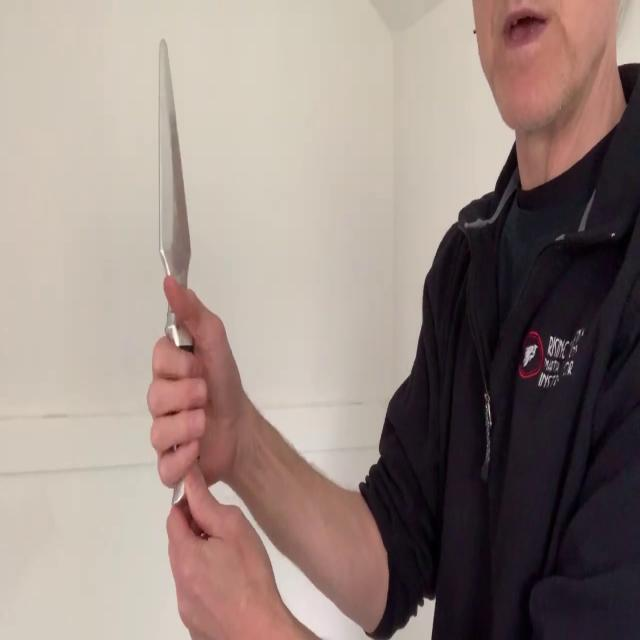Knife_Handle: (146, 38, 281, 640)
